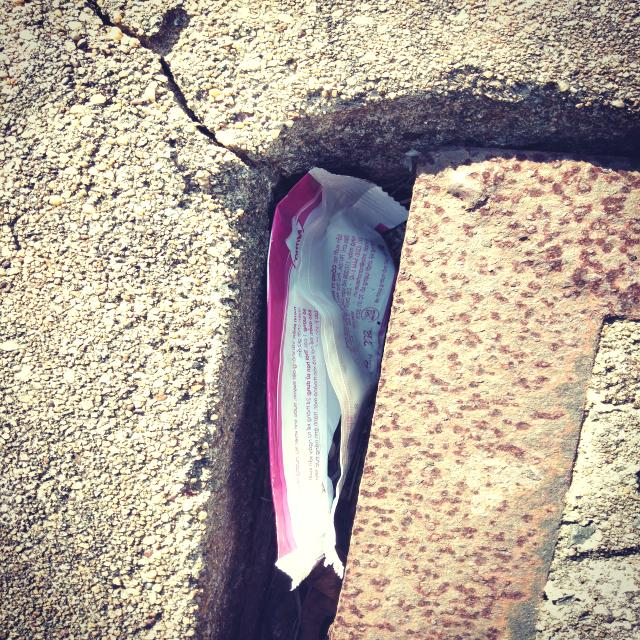Other plastic: (266, 167, 409, 591)
